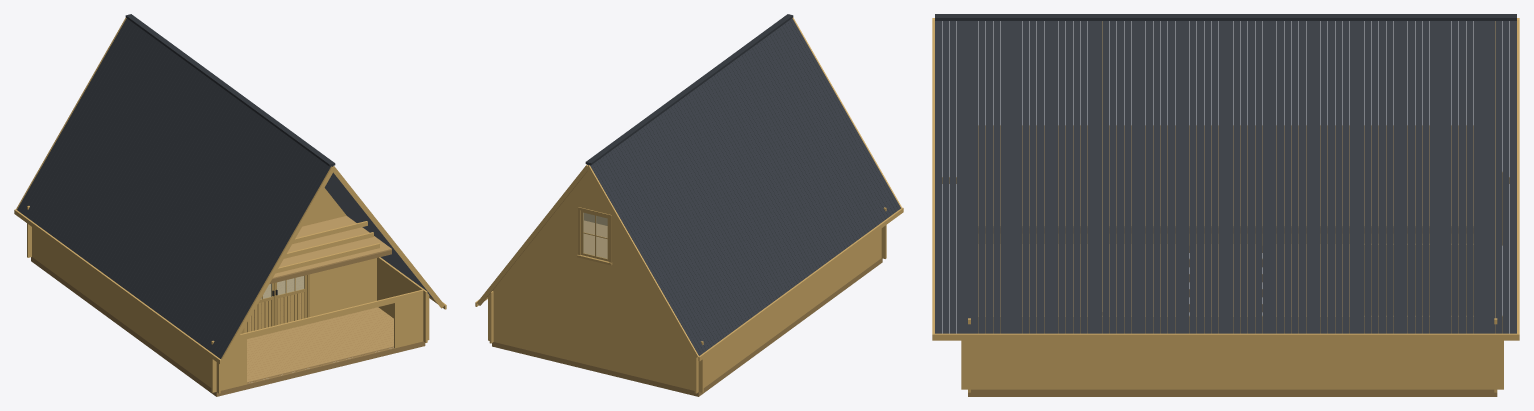
Rendered from эрик_5_2_8_44_мм_а_фрейм_балкон.glb.
The picture shows the model from 3 angles, left to right: view 1: azimuth 30°, elevation 25°; view 2: azimuth 150°, elevation 25°; view 3: azimuth 270°, elevation 25°; orthographic projection. The views are drawn at different scales.
Visible parts, largest first — view 1: roof, walls, floor, slab, Эрик 5,2×8 (44 мм, А-фрейм, балкон); view 2: roof, walls, Эрик 5,2×8 (44 мм, А-фрейм, балкон), object 129, slab; view 3: roof, walls, slab, Эрик 5,2×8 (44 мм, А-фрейм, балкон), floor.
Part boxes in pixels (bbox=[...]): roof: bbox=[14, 14, 446, 364]; walls: bbox=[27, 188, 429, 393]; floor: bbox=[247, 276, 393, 383]; slab: bbox=[269, 216, 391, 283]; Эрик 5,2×8 (44 мм, А-фрейм, балкон): bbox=[31, 257, 425, 396]; roof: bbox=[475, 14, 903, 361]; walls: bbox=[488, 171, 886, 393]; Эрик 5,2×8 (44 мм, А-фрейм, балкон): bbox=[492, 258, 882, 396]; object 129: bbox=[583, 213, 607, 258]; slab: bbox=[584, 220, 607, 258]; roof: bbox=[932, 14, 1519, 340]; walls: bbox=[961, 21, 1503, 392]; slab: bbox=[978, 125, 1473, 233]; Эрик 5,2×8 (44 мм, А-фрейм, балкон): bbox=[968, 246, 1497, 396]; floor: bbox=[978, 244, 1349, 315].
Size of the model in its own units: 5.65 by 5.14 by 8.88.
